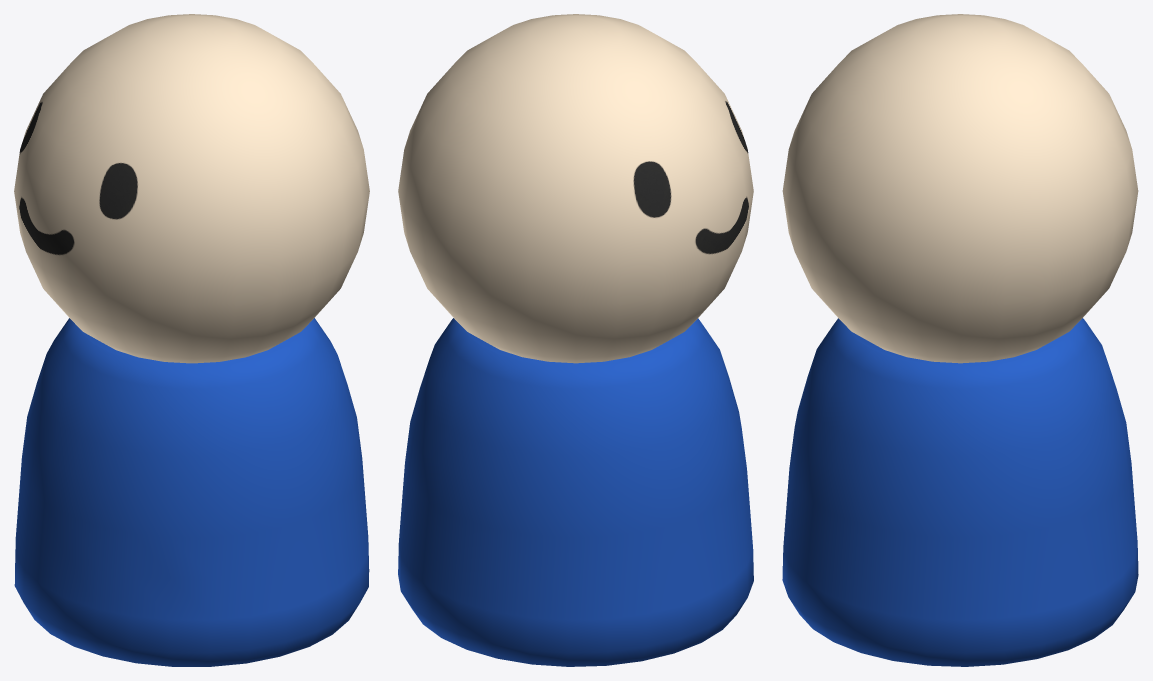
Rendered from character_3.fbx.
The picture shows the model from 3 angles, left to right: view 1: azimuth 30°, elevation 25°; view 2: azimuth 150°, elevation 25°; view 3: azimuth 270°, elevation 25°; orthographic projection.
Parts seen in each view (by area): view 1: body, kafa; view 2: body, kafa; view 3: body, kafa.
Boxes of the visible parts, x1,y1,x2,y2 form: body: [14, 318, 369, 666]; kafa: [14, 14, 369, 363]; body: [398, 318, 753, 666]; kafa: [398, 14, 753, 363]; body: [782, 318, 1138, 666]; kafa: [782, 14, 1138, 363].
Bounding box in the file's own units: 61.53 × 110 × 61.53.
2 materials, 1 textured.
